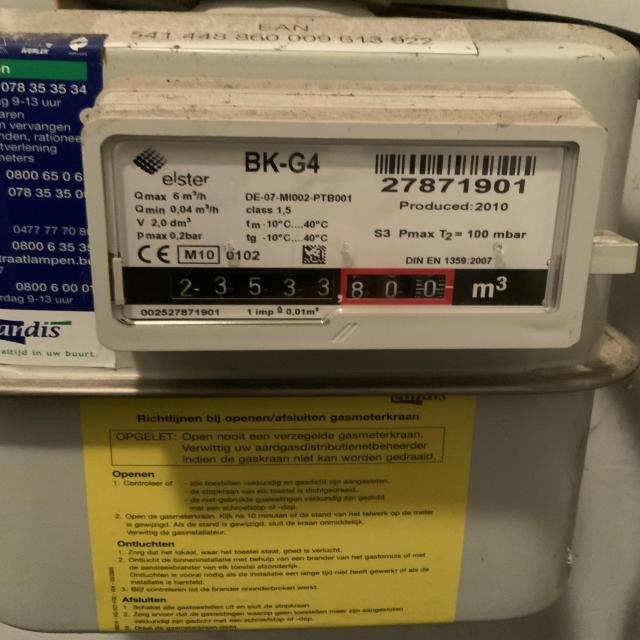gaz_meter: (104, 126, 568, 317)
indication: (124, 268, 457, 305)
